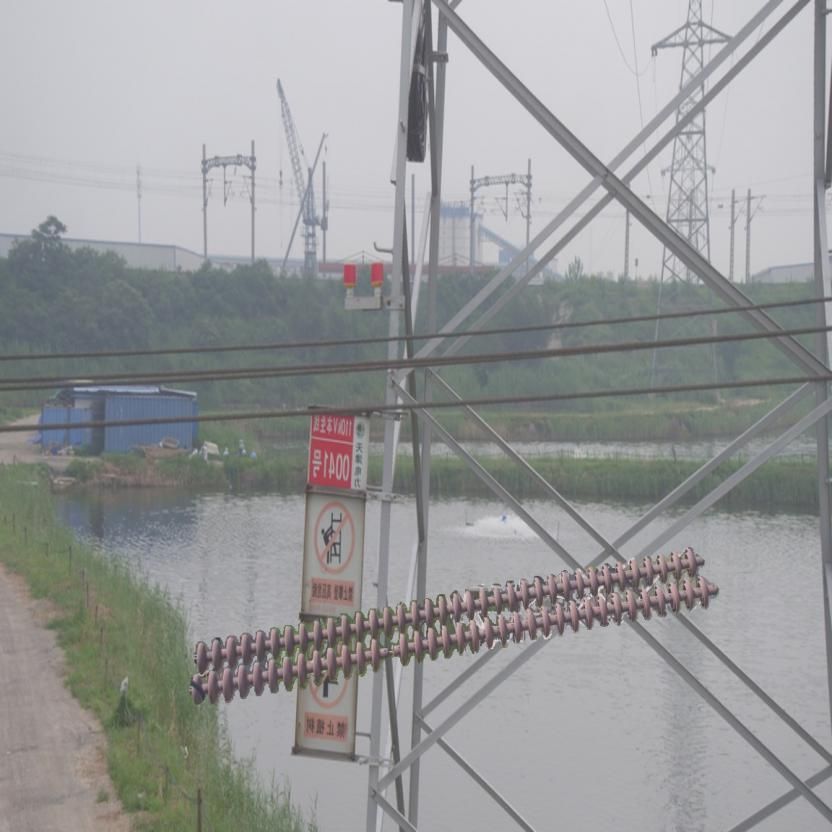defect: (366, 630, 414, 670)
